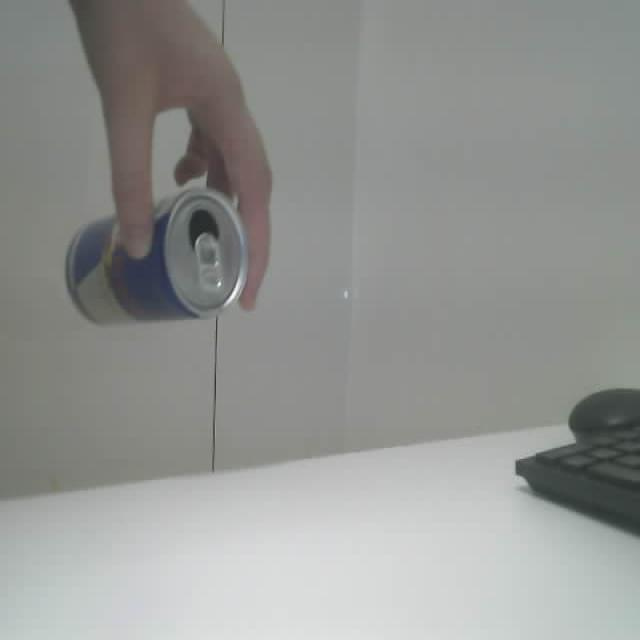redbull can: (66, 188, 248, 323)
